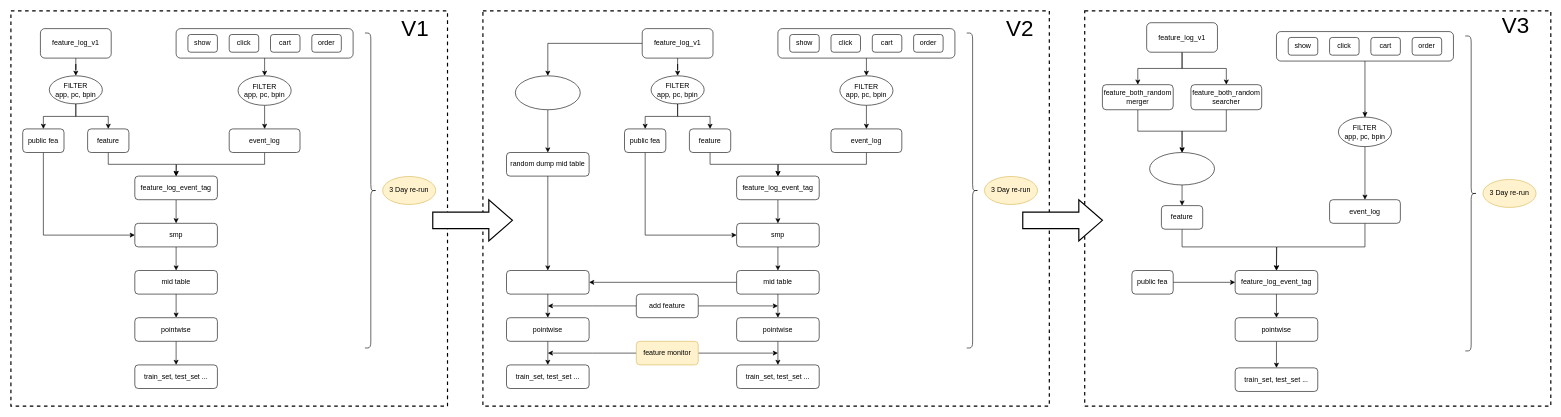
This 1561x417 diagram has some shape labels left out. The centre of each missing label's shape, as x and y in pixels:
combine merger and searcher features: (x=1182, y=168)
FILTER app, pc, bpin, random dump: (x=547, y=92)
union mid table: (x=547, y=282)
